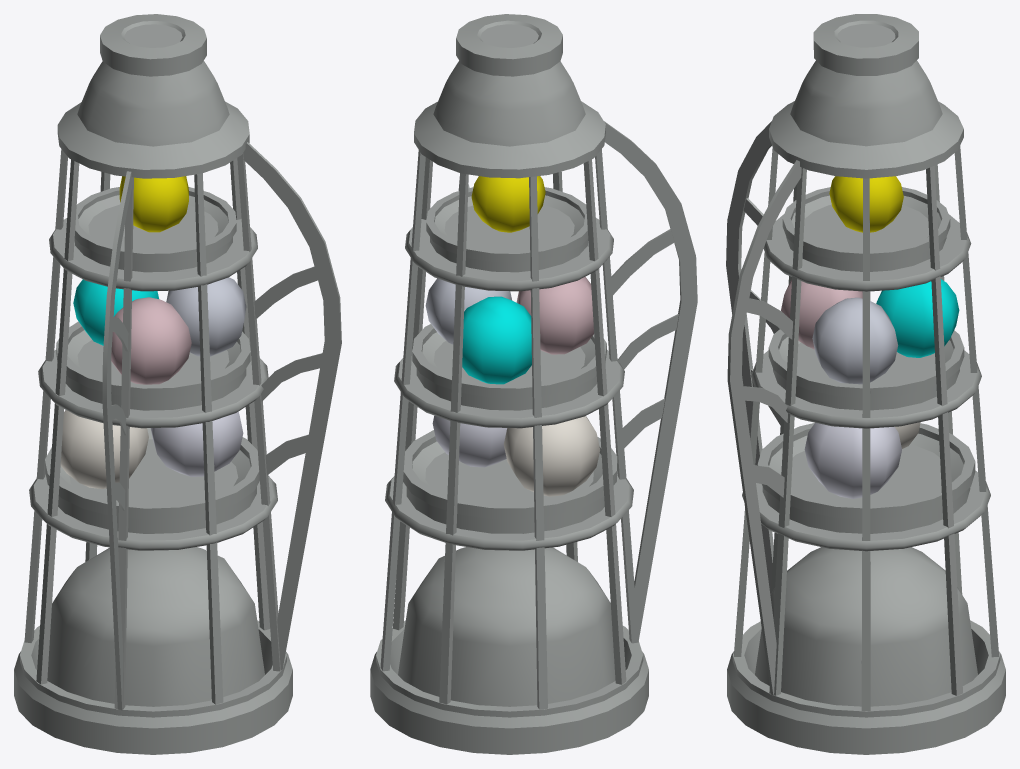
3 views of the same model, side by side, from view 1: azimuth 30°, elevation 25°; view 2: azimuth 150°, elevation 25°; view 3: azimuth 270°, elevation 25° (orthographic).
Visible parts, largest first — view 1: G:\FFXIV-MapTools\exports\u5f1\bg\ex4\04_uvs_u5\fld\u5f1\bgp (×9); view 2: G:\FFXIV-MapTools\exports\u5f1\bg\ex4\04_uvs_u5\fld\u5f1\bgp (×9); view 3: G:\FFXIV-MapTools\exports\u5f1\bg\ex4\04_uvs_u5\fld\u5f1\bgp (×9).
Part boxes in pixels (x1,y1,x2,y2): G:\FFXIV-MapTools\exports\u5f1\bg\ex4\04_uvs_u5\fld\u5f1\bgp (×9): (14, 14, 341, 754); G:\FFXIV-MapTools\exports\u5f1\bg\ex4\04_uvs_u5\fld\u5f1\bgp (×9): (370, 14, 697, 754); G:\FFXIV-MapTools\exports\u5f1\bg\ex4\04_uvs_u5\fld\u5f1\bgp (×9): (726, 14, 1005, 754).
Bounding box in the file's own units: 1.81 × 4.76 × 1.82.
